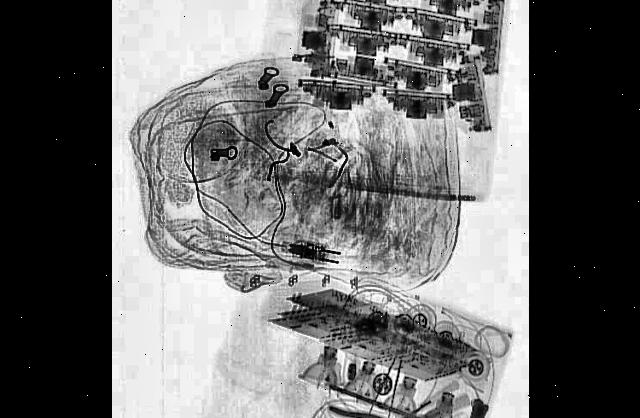Pliers: (319, 402, 450, 418)
